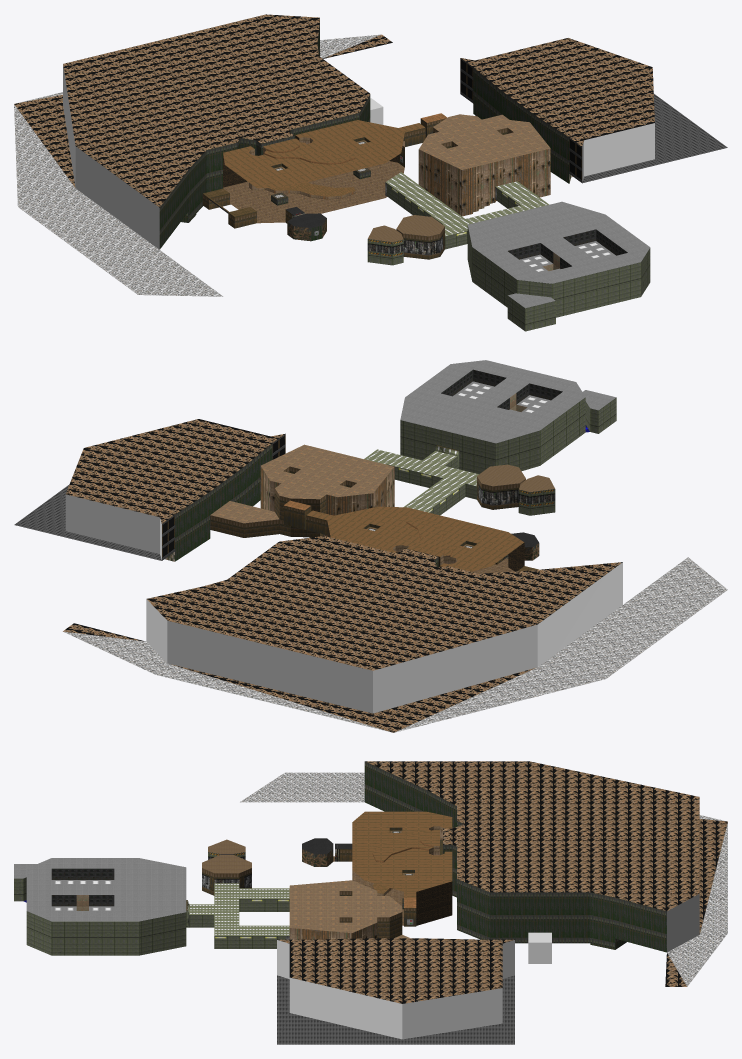
File: FixedMap.fbx_Collection.fbx
3 views of the same model, one above another, from view 1: azimuth 30°, elevation 25°; view 2: azimuth 150°, elevation 25°; view 3: azimuth 270°, elevation 25° (orthographic). The views are drawn at different scales.
Parts seen in each view (by area): view 1: MAP01; view 2: MAP01; view 3: MAP01, Cube.
Part boxes in pixels (x1=…): MAP01: x1=14, y1=14, x2=727, y2=331; MAP01: x1=14, y1=360, x2=727, y2=732; MAP01: x1=14, y1=761, x2=727, y2=1044; Cube: x1=528, y1=932, x2=551, y2=963.
Size of the model in its own units: 5615 by 539 by 6068.
67 materials, 65 textured.
